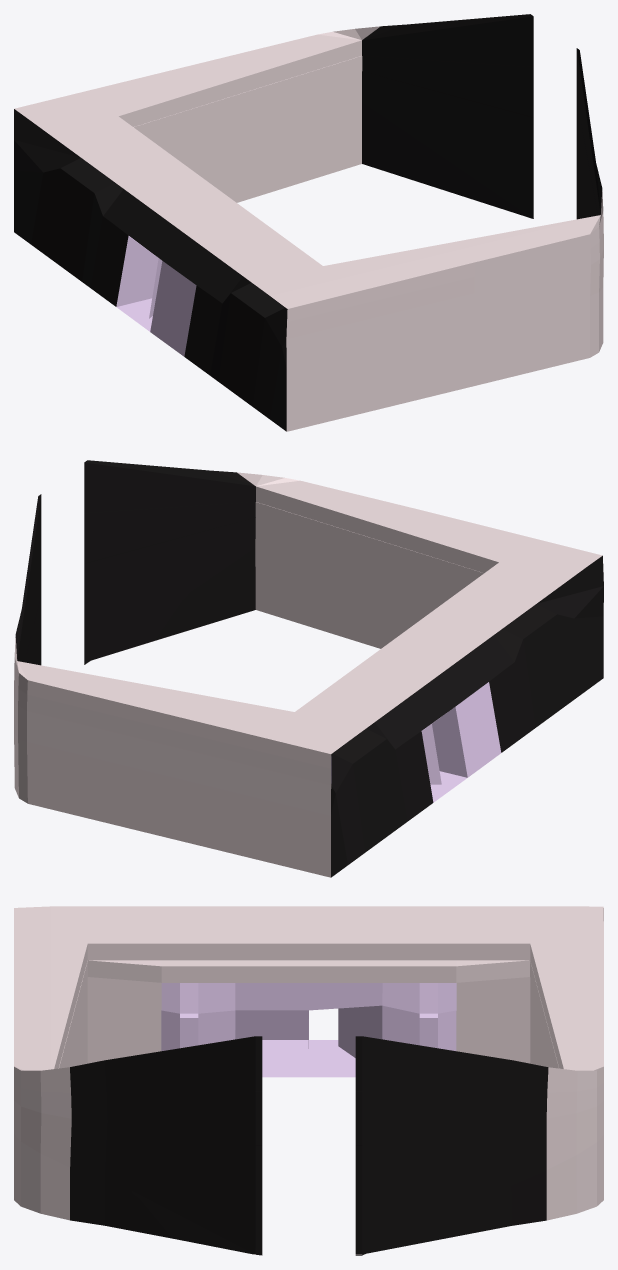
Rendered from jewleryisland2.fbx.
The picture shows the model from 3 angles, top to bottom: view 1: azimuth 30°, elevation 25°; view 2: azimuth 150°, elevation 25°; view 3: azimuth 270°, elevation 25°; orthographic projection. The views are drawn at different scales.
Parts seen in each view (by area): view 1: Cube.001; view 2: Cube.001; view 3: Cube.001.
Part boxes in pixels (x1=…): Cube.001: x1=14, y1=14, x2=603, y2=431; Cube.001: x1=14, y1=460, x2=603, y2=877; Cube.001: x1=14, y1=906, x2=603, y2=1255.
Size of the model in its own units: 686 by 328 by 800.
